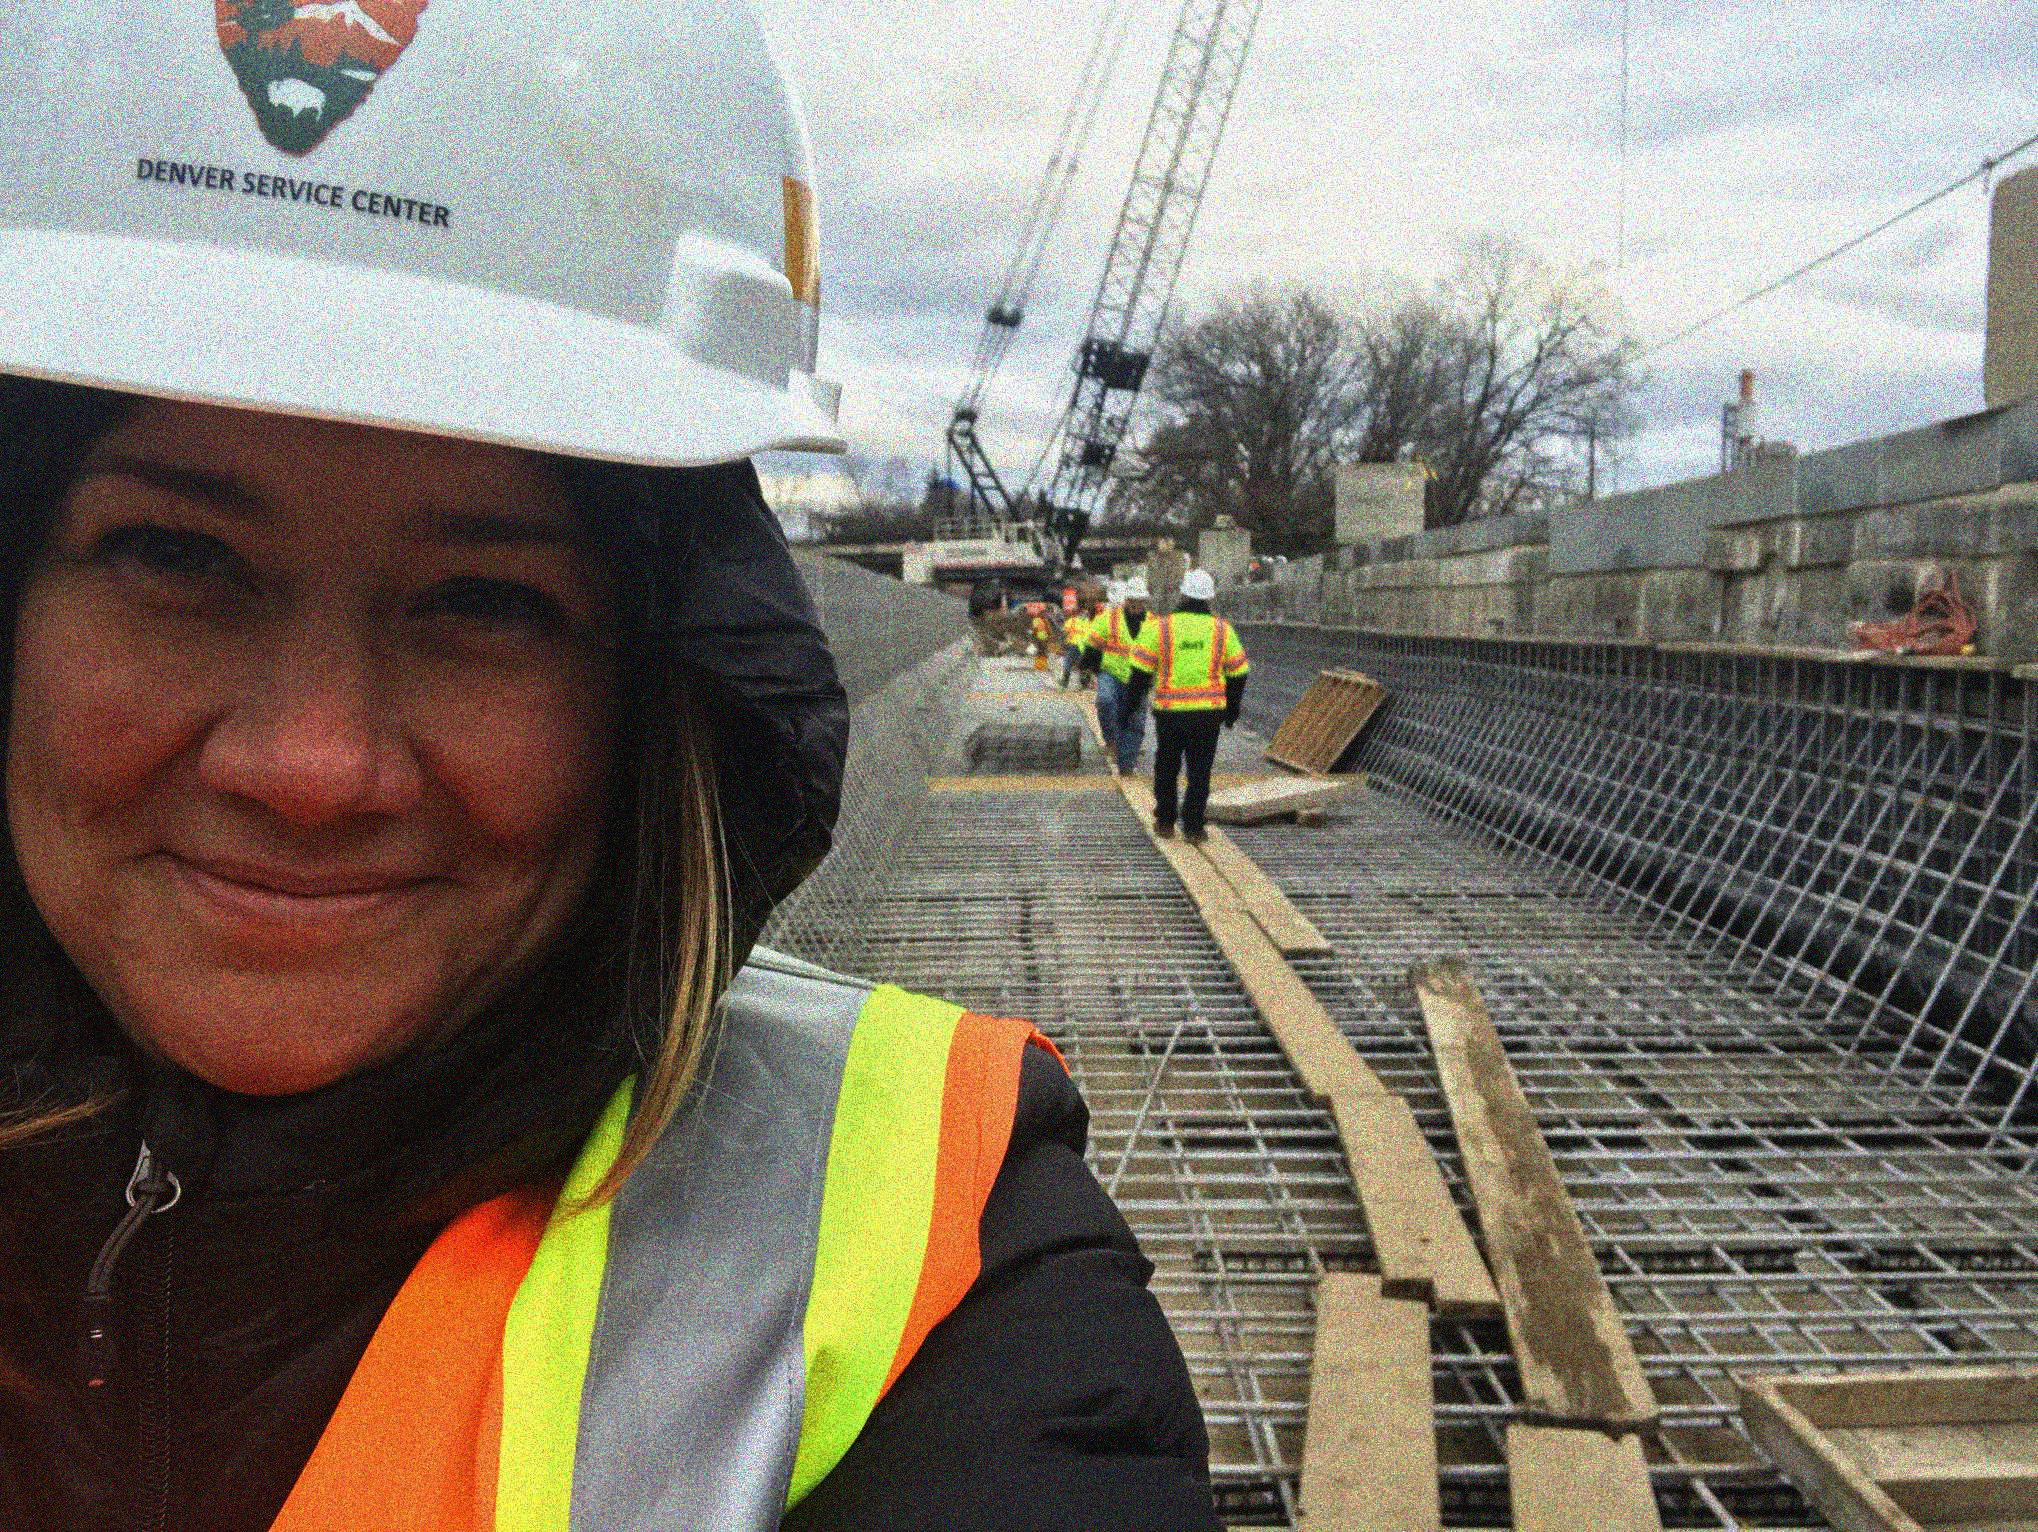helmet: (10, 2, 865, 1112), (1181, 568, 1218, 608), (1123, 574, 1152, 613)
